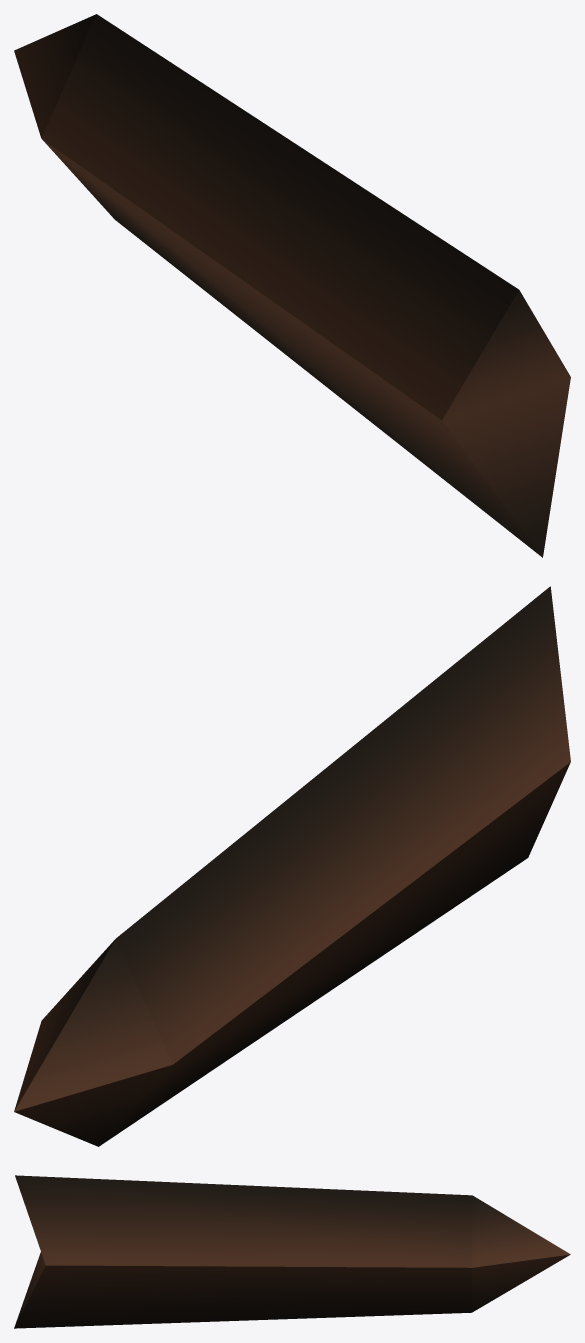
Rendered from MediumScabbard_mdl.FBX.
The picture shows the model from 3 angles, top to bottom: view 1: azimuth 30°, elevation 25°; view 2: azimuth 150°, elevation 25°; view 3: azimuth 270°, elevation 25°; orthographic projection. The views are drawn at different scales.
Visible parts, largest first — view 1: scabbard_mdl; view 2: scabbard_mdl; view 3: scabbard_mdl.
Part boxes in pixels (x1,y1,x2,y2): scabbard_mdl: (14,14,570,557); scabbard_mdl: (14,586,570,1146); scabbard_mdl: (14,1175,570,1328).
Size of the model in its own units: 6.05 by 11.8 by 40.49.
